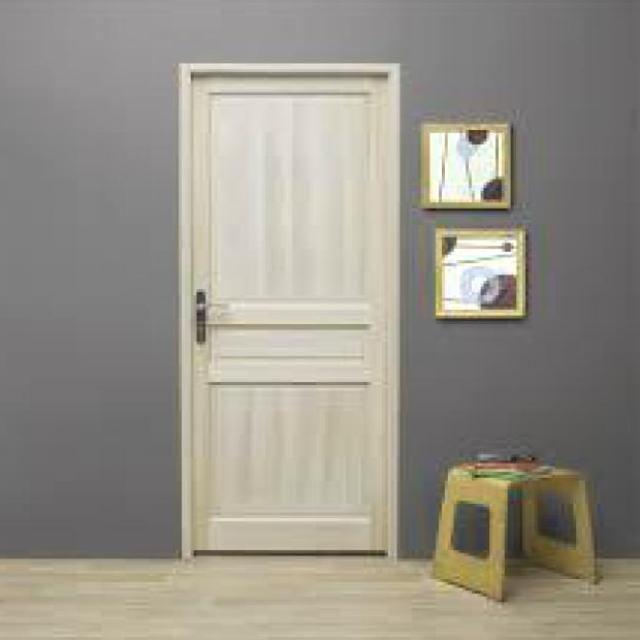door: (182, 63, 399, 558)
